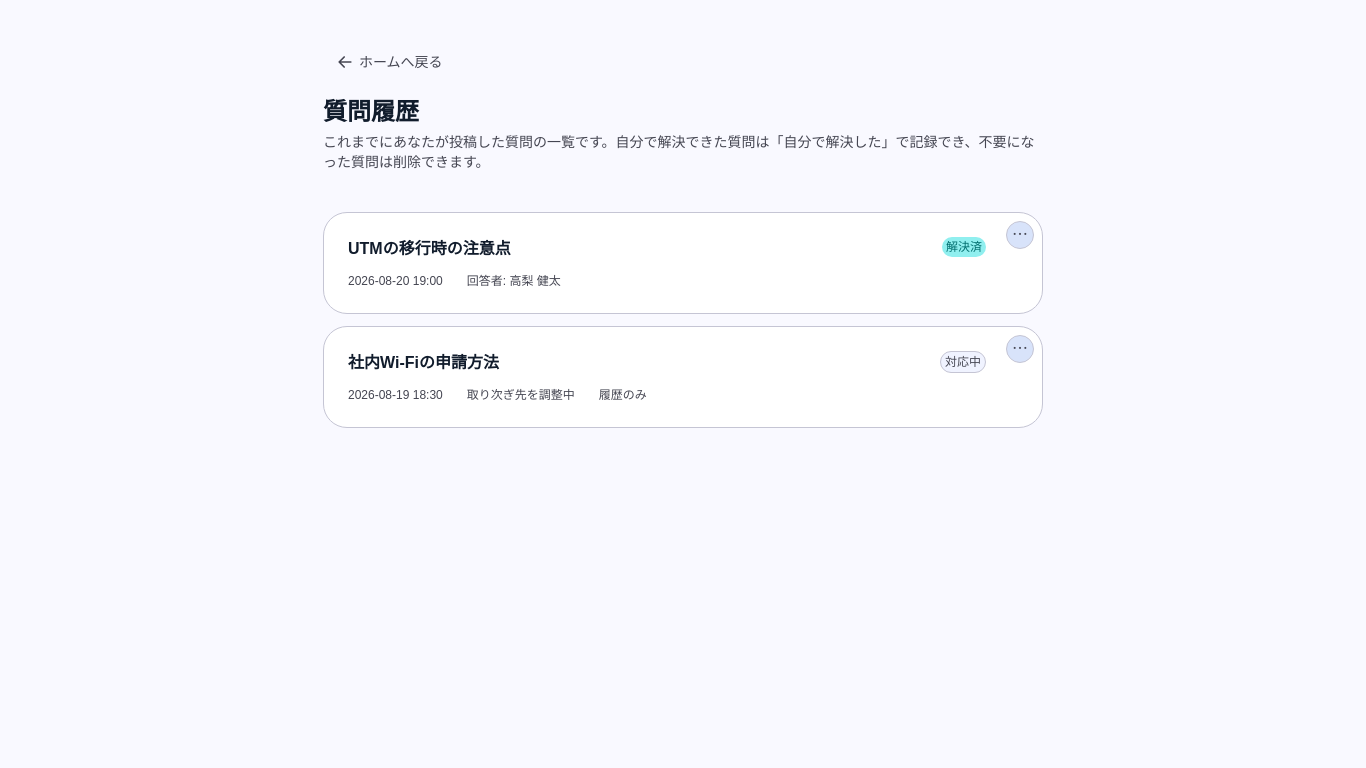
Test: HistoryScreen › marks a pending question self-resolved via the options menu after confirmation (#397)
The image size is (1366, 768).
Expected: the heading "社内Wi-Fiの申請方法" is shown, [348,351,499,375]
Expected: the text "取り次ぎ先を調整中" is shown, [467,387,575,403]
Click the button named "「社内Wi-Fiの申請方法」の操作" at (1020, 349), box [1006,335,1034,363]
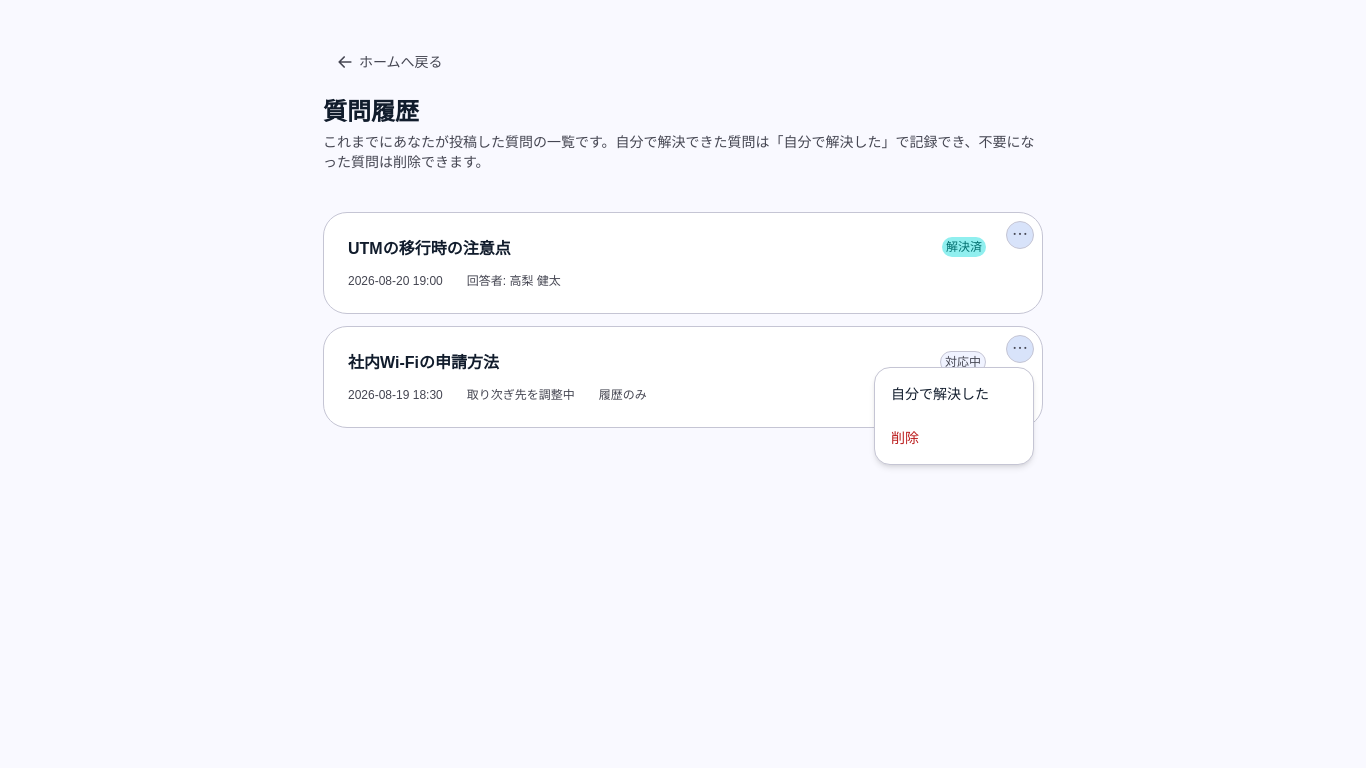
Expected: the menu item "自分で解決した" is shown
Click the menu item "自分で解決した" at (954, 394), box [879,372,1029,416]
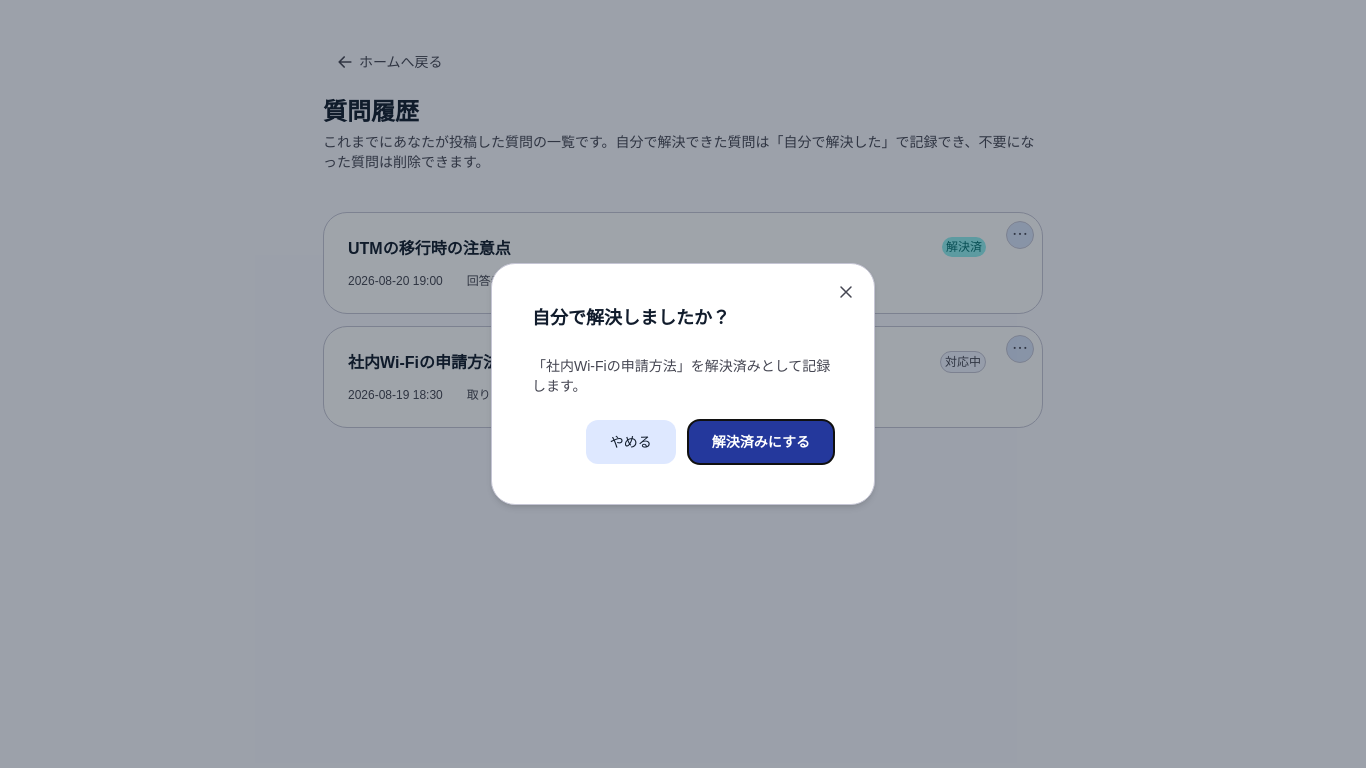
Expected: the dialog "自分で解決しましたか？" is shown, [491,263,875,505]
Click the button "解決済みにする" at (761, 442), box [688,420,834,464]
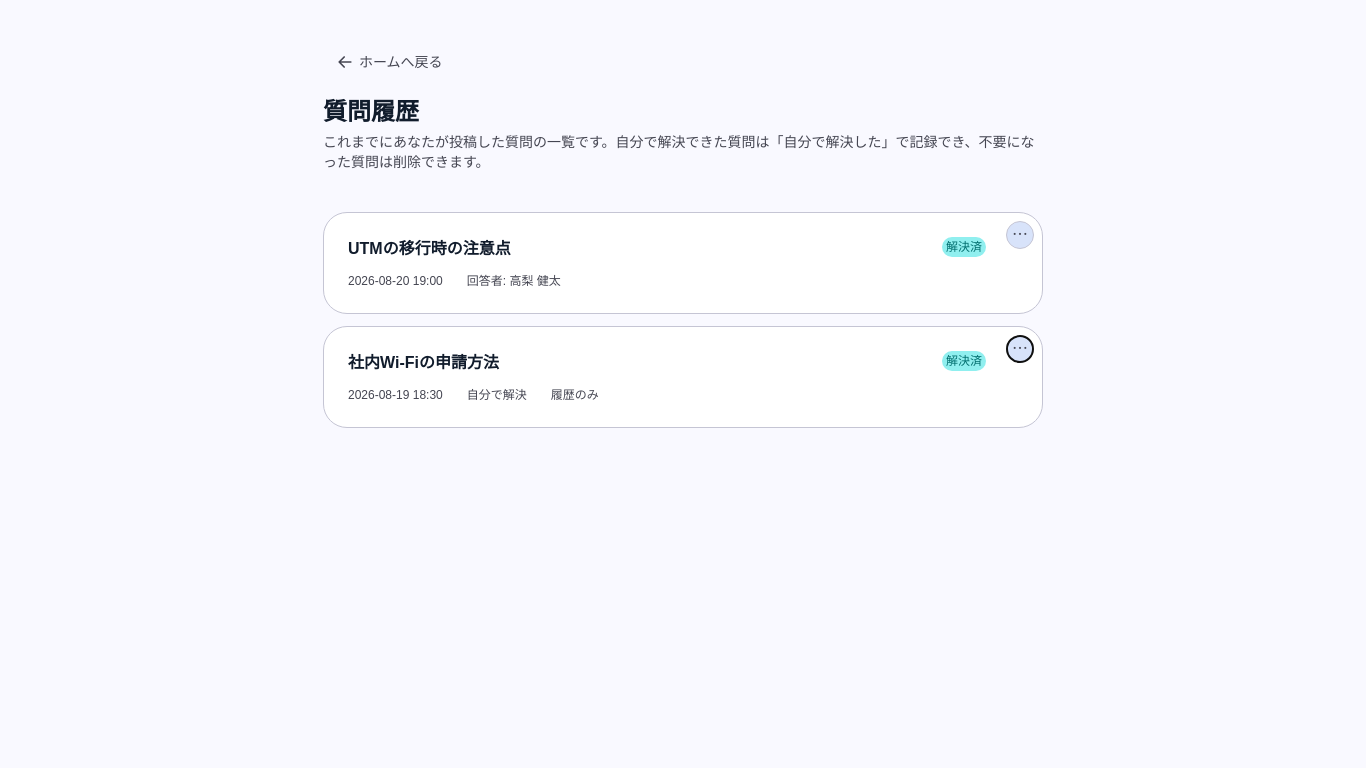
Expected: the heading "社内Wi-Fiの申請方法" is shown, [348,351,499,375]
Expected: the dialog is gone
Expected: the text "自分で解決" is shown, [467,387,527,403]
